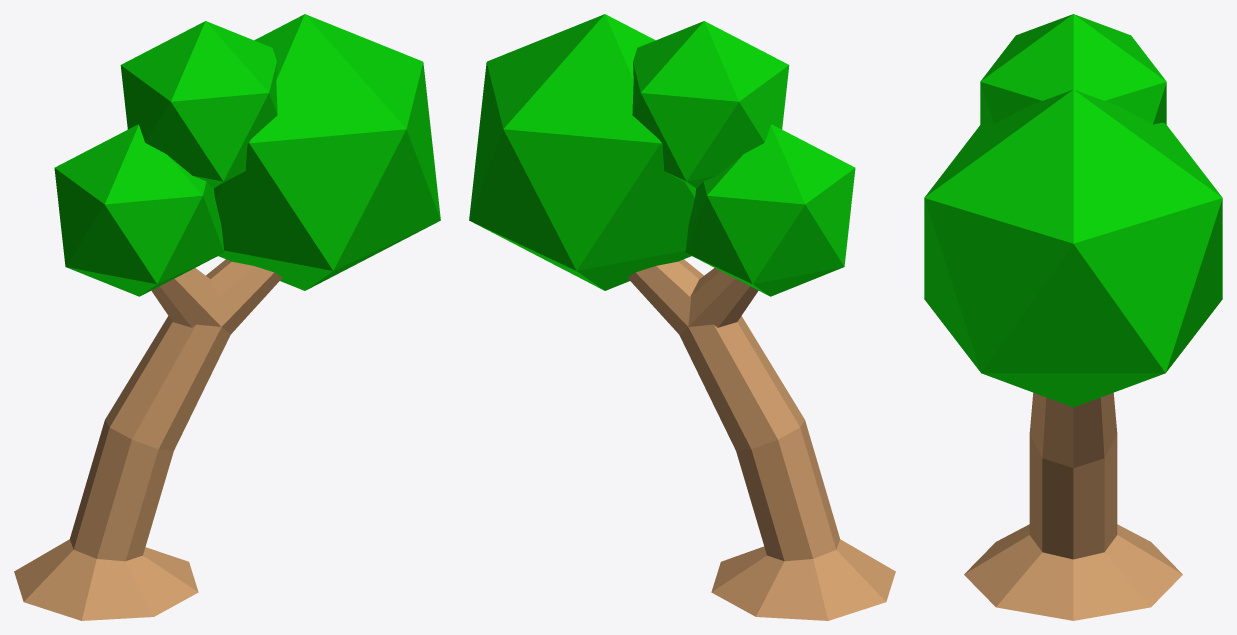
File: tree.fbx
3 views of the same model, side by side, from view 1: azimuth 30°, elevation 25°; view 2: azimuth 150°, elevation 25°; view 3: azimuth 270°, elevation 25° (orthographic). The views are drawn at different scales.
Parts seen in each view (by area): view 1: Leaves; view 2: Leaves; view 3: Leaves.
Boxes of the visible parts, x1=… form: Leaves: x1=14, y1=14, x2=440, y2=620; Leaves: x1=469, y1=14, x2=895, y2=620; Leaves: x1=924, y1=14, x2=1222, y2=620.
Size of the model in its own units: 242 by 310 by 136.
